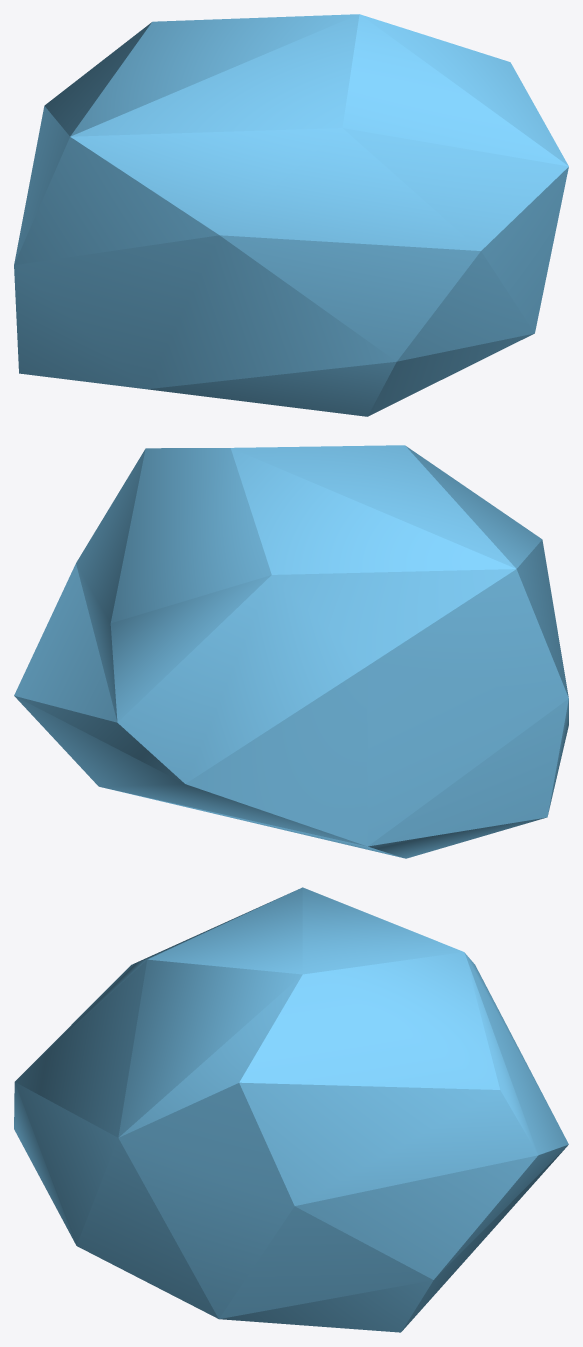
The model's file is PROP_Ice_Rock01.FBX.
3 views of the same model, one above another, from view 1: azimuth 30°, elevation 25°; view 2: azimuth 150°, elevation 25°; view 3: azimuth 270°, elevation 25° (orthographic). The views are drawn at different scales.
Visible parts, largest first — view 1: PROP_Ice_Rock01; view 2: PROP_Ice_Rock01; view 3: PROP_Ice_Rock01.
Part boxes in pixels (bbox=[...]): PROP_Ice_Rock01: bbox=[14, 14, 568, 416]; PROP_Ice_Rock01: bbox=[14, 445, 568, 858]; PROP_Ice_Rock01: bbox=[14, 887, 568, 1332].
Size of the model in its own units: 40.4 by 26.23 by 39.41.
Materials: 1 (1 with a texture image).
